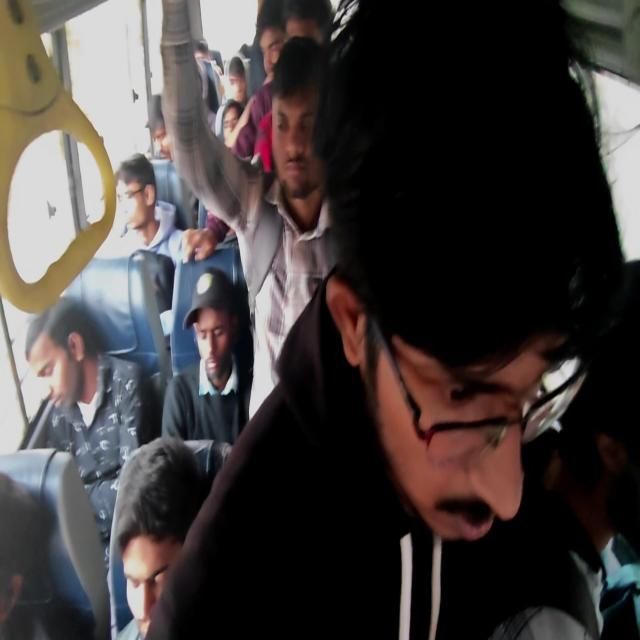person: (598, 318, 640, 537)
